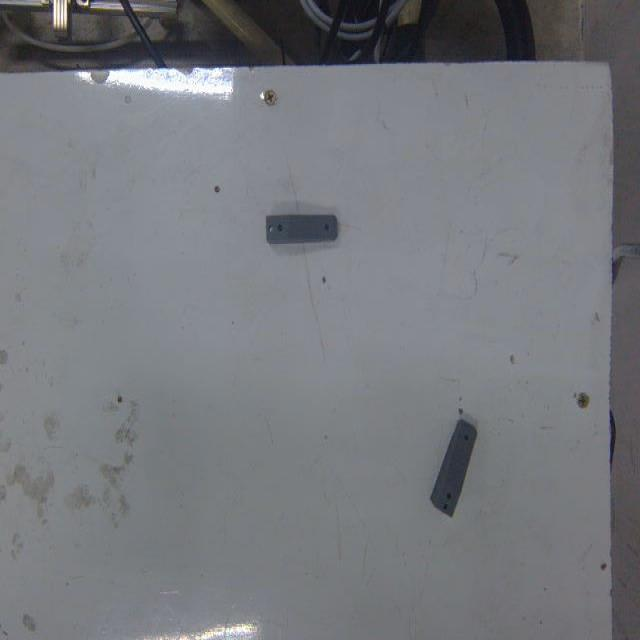grey: (431, 416, 478, 524), (265, 210, 337, 247)
head: (461, 432, 470, 446), (321, 222, 330, 234)
